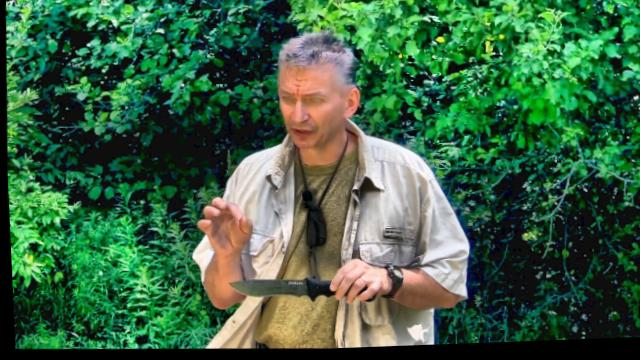knife: (221, 261, 375, 310)
